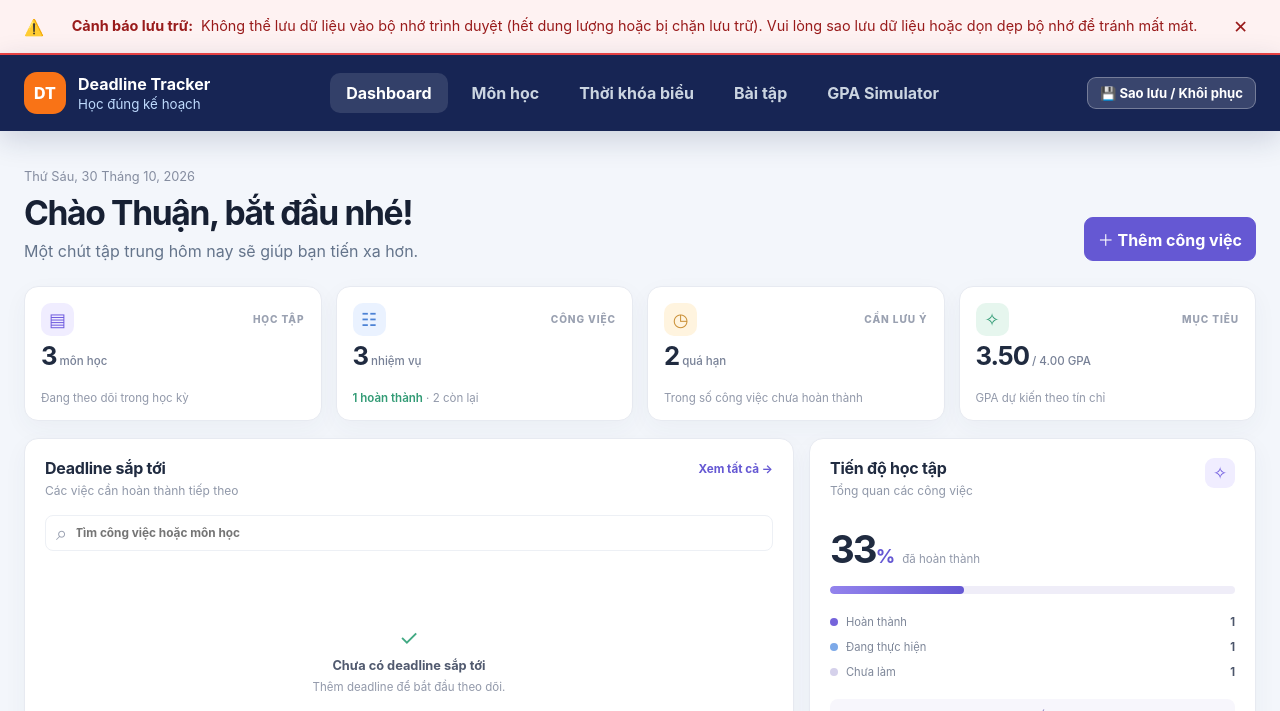
Test: AppDataContext & Storage Write Error Handling › renders storage error banner in main App shell when storage quota is exceeded
Expected: the message is shown, [0, 0, 1279, 55]
Expected: the message shows "Cảnh báo lưu trữ:", [72, 17, 193, 34]
Click nút đóng trên banner
Click the button named "Đóng thông báo lỗi lưu trữ": coordinates (1241, 26) [1225, 12, 1256, 41]
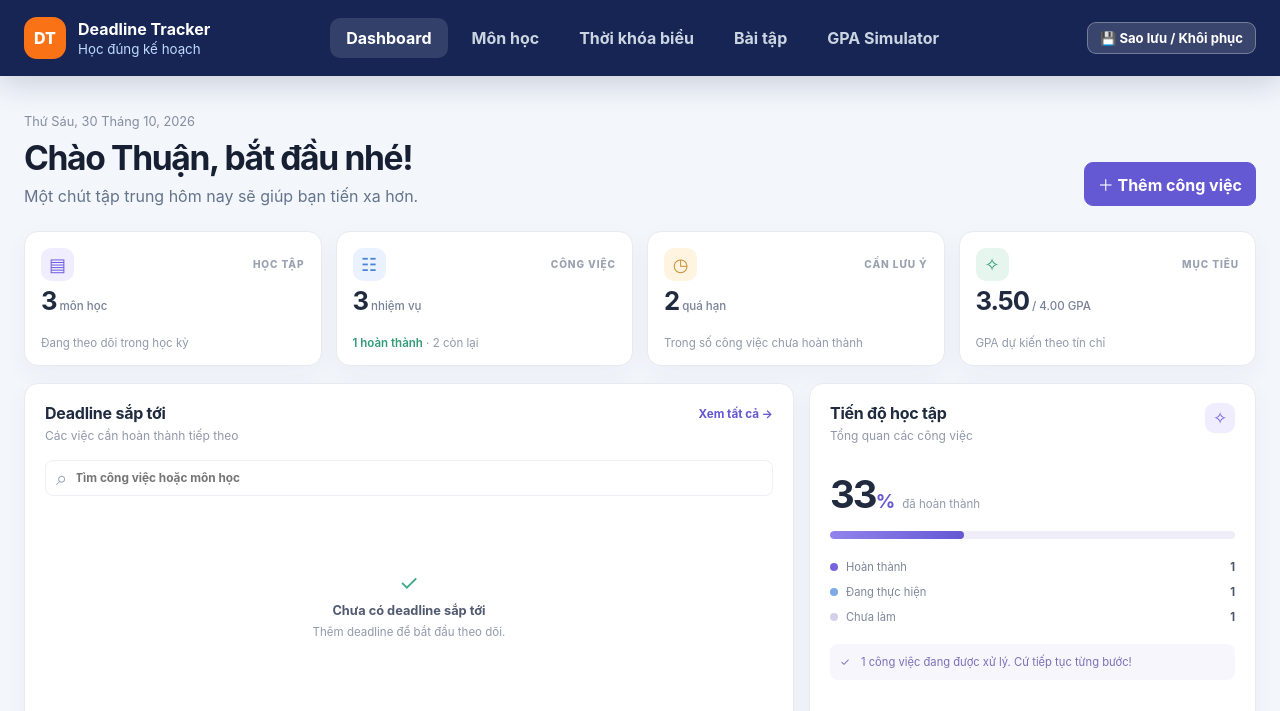
Expected: the message is gone
